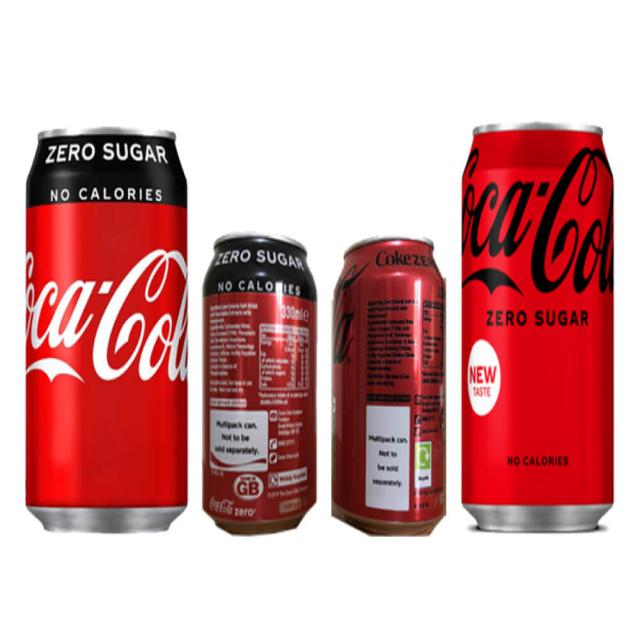cocacola: (21, 132, 196, 542), (460, 110, 618, 534), (325, 246, 445, 536), (210, 237, 321, 531)
